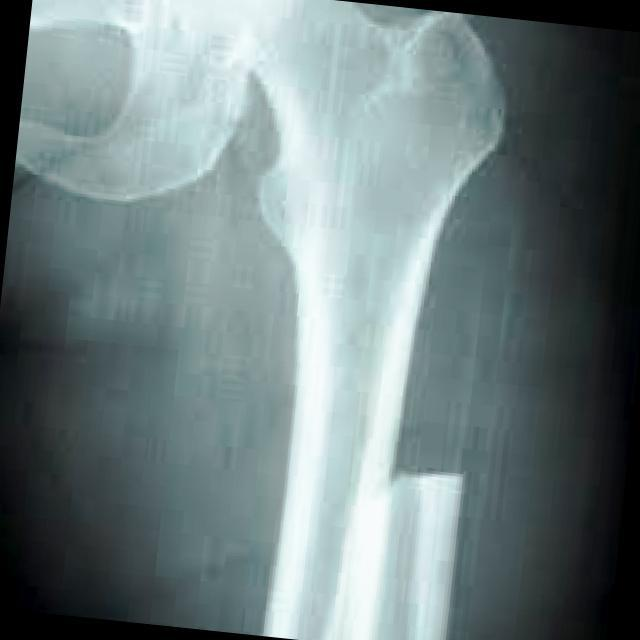Comminuted Fracture: (354, 413, 464, 509)
